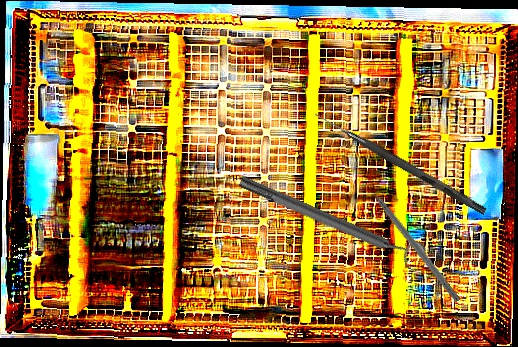Fixation Ring: (235, 165, 428, 275)
Hook Surgical: (311, 111, 489, 215), (361, 177, 463, 304)
